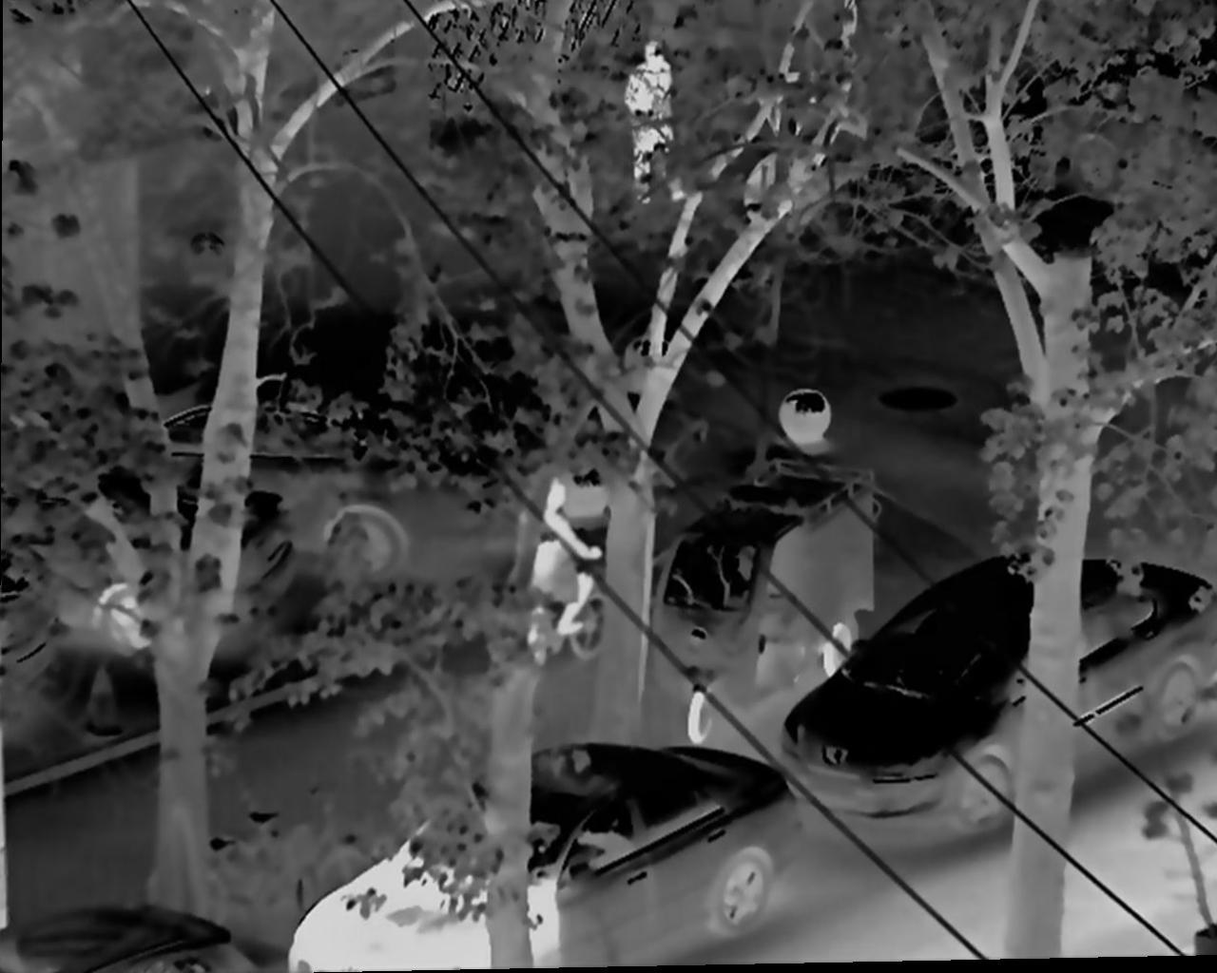person: (518, 477, 595, 674), (622, 42, 698, 231)
